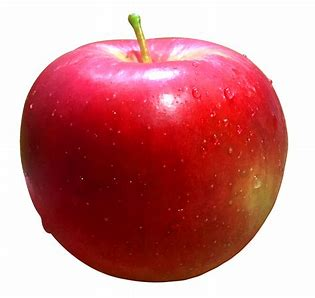apple: (19, 20, 287, 283)
